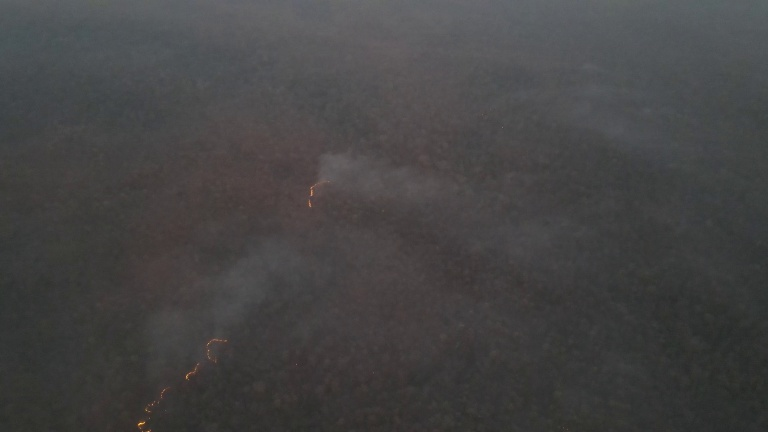fire: (130, 336, 228, 432), (305, 175, 339, 212)
smoke: (142, 240, 293, 365), (317, 152, 405, 199)
